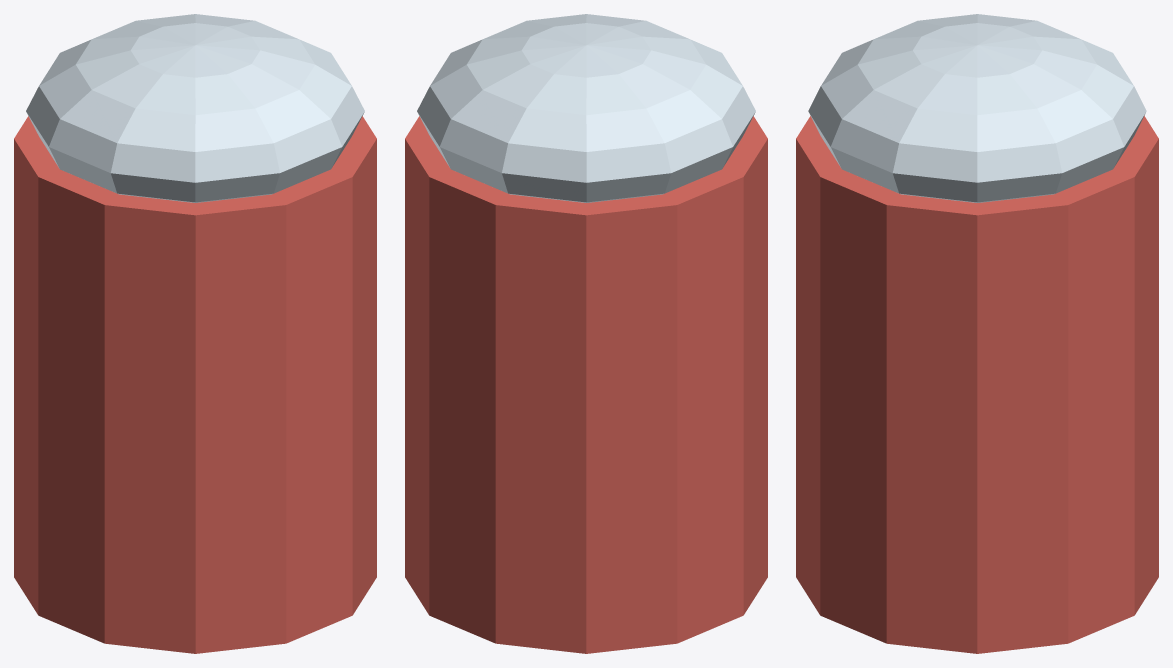
Rendered from frozen_fender_buoy.glb.
3 views of the same model, side by side, from view 1: azimuth 30°, elevation 25°; view 2: azimuth 150°, elevation 25°; view 3: azimuth 270°, elevation 25° (orthographic).
Visible parts, largest first — view 1: buoy, frost; view 2: buoy, frost; view 3: buoy, frost.
Boxes of the visible parts, x1,y1,x2,y2 form: buoy: (14, 116, 376, 653); frost: (26, 14, 364, 202); buoy: (405, 116, 767, 653); frost: (417, 14, 755, 202); buoy: (796, 116, 1158, 653); frost: (808, 14, 1146, 202).
Bounding box in the file's own units: 0.5996 × 0.97 × 0.5996.
